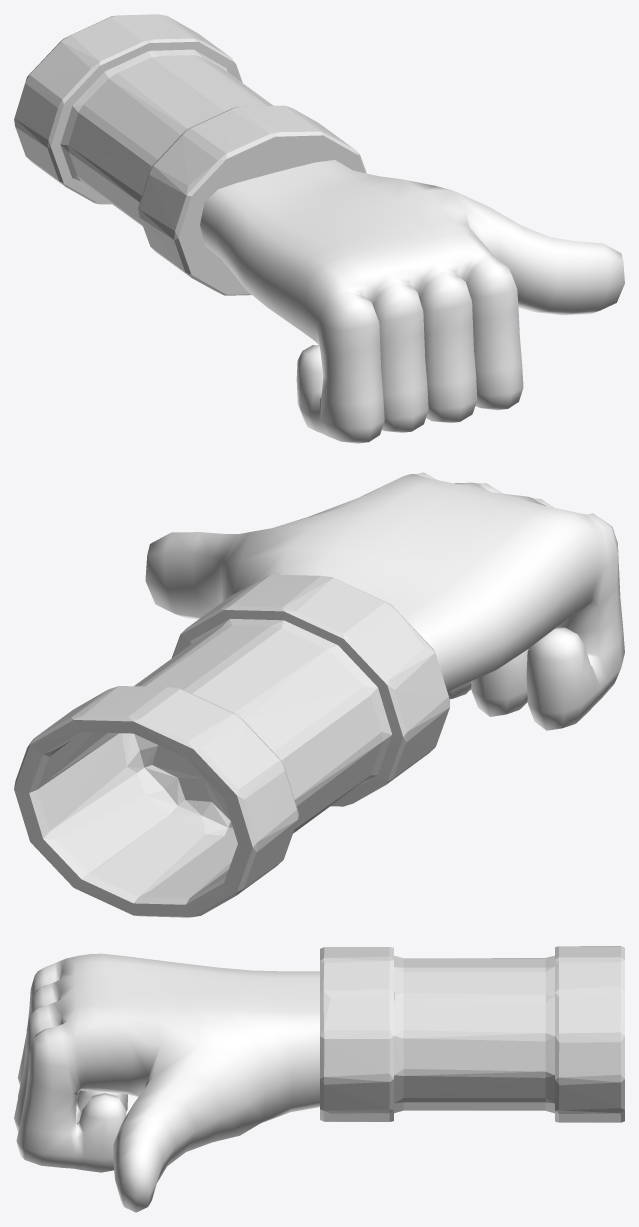
Rendered from glove_only.glb.
3 views of the same model, one above another, from view 1: azimuth 30°, elevation 25°; view 2: azimuth 150°, elevation 25°; view 3: azimuth 270°, elevation 25° (orthographic). The views are drawn at different scales.
Parts seen in each view (by area): view 1: Glove, Cylinder; view 2: Cylinder, Glove; view 3: Glove, Cylinder.
Part boxes in pixels (x1,y1,x2,y2): Glove: [200, 160, 624, 443]; Cylinder: [14, 14, 366, 295]; Cylinder: [14, 574, 449, 917]; Glove: [145, 472, 624, 730]; Glove: [14, 953, 319, 1212]; Cylinder: [320, 946, 624, 1122].
Size of the model in its own units: 5.68 by 3 by 9.17.
Materials: 1 (1 with a texture image).
